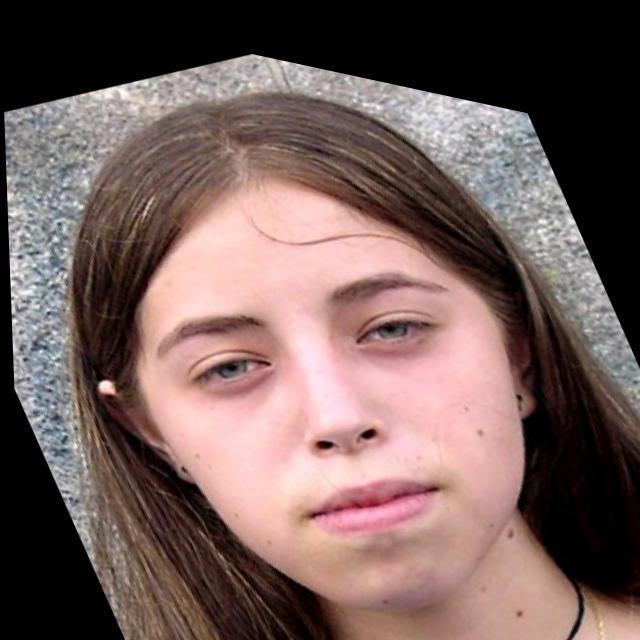Nonhelmet: (62, 86, 589, 637)
